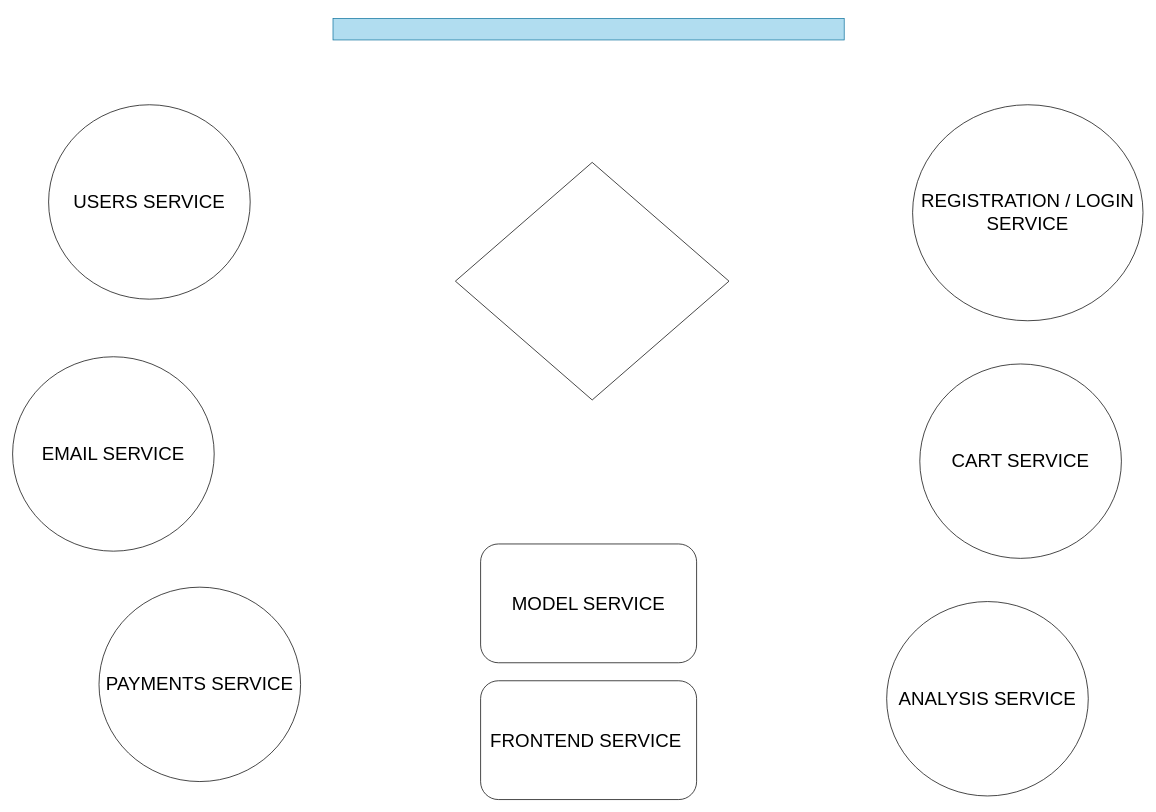
This 1156x812 diagram has some shape labels left out. The shapes that lost their labels are listed below. From the top down, each one's box as (x1, y1, x2, y2) in pixels, then its label:
(332, 18, 844, 40): Prototypical design for beta
(455, 162, 729, 400): AUTHORIZATION SERVICE
